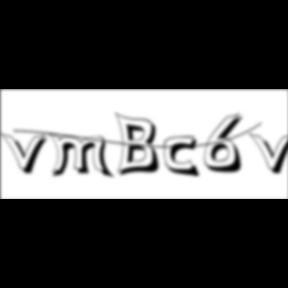6: (204, 112, 250, 176)
B: (115, 111, 165, 179)
c: (164, 136, 204, 180)
m: (49, 132, 117, 181)
v: (0, 131, 54, 177)
